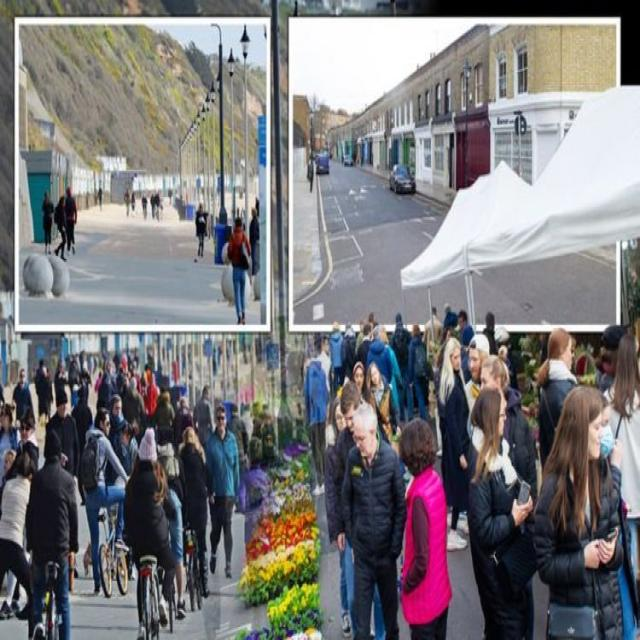Walking: (348, 412, 402, 630)
human: (479, 394, 510, 443)
